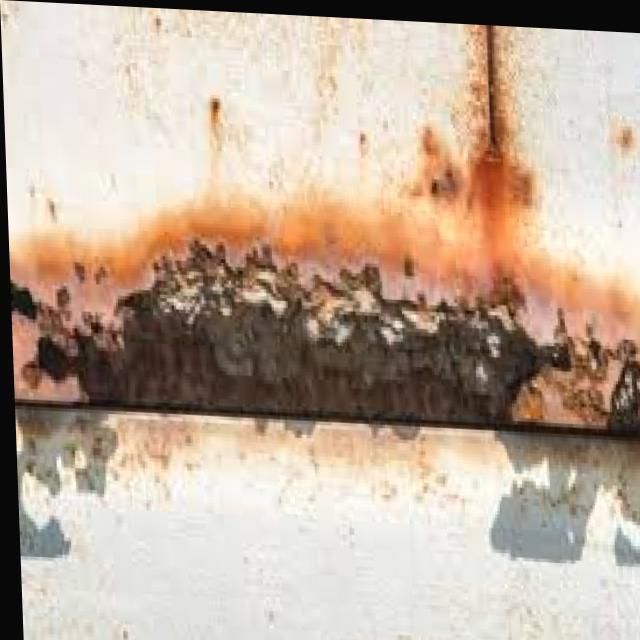corrosion: (8, 187, 640, 435)
